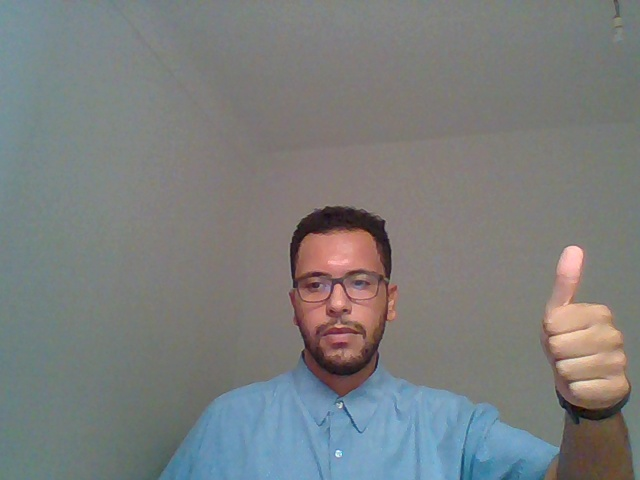ok: (512, 228, 640, 472)
